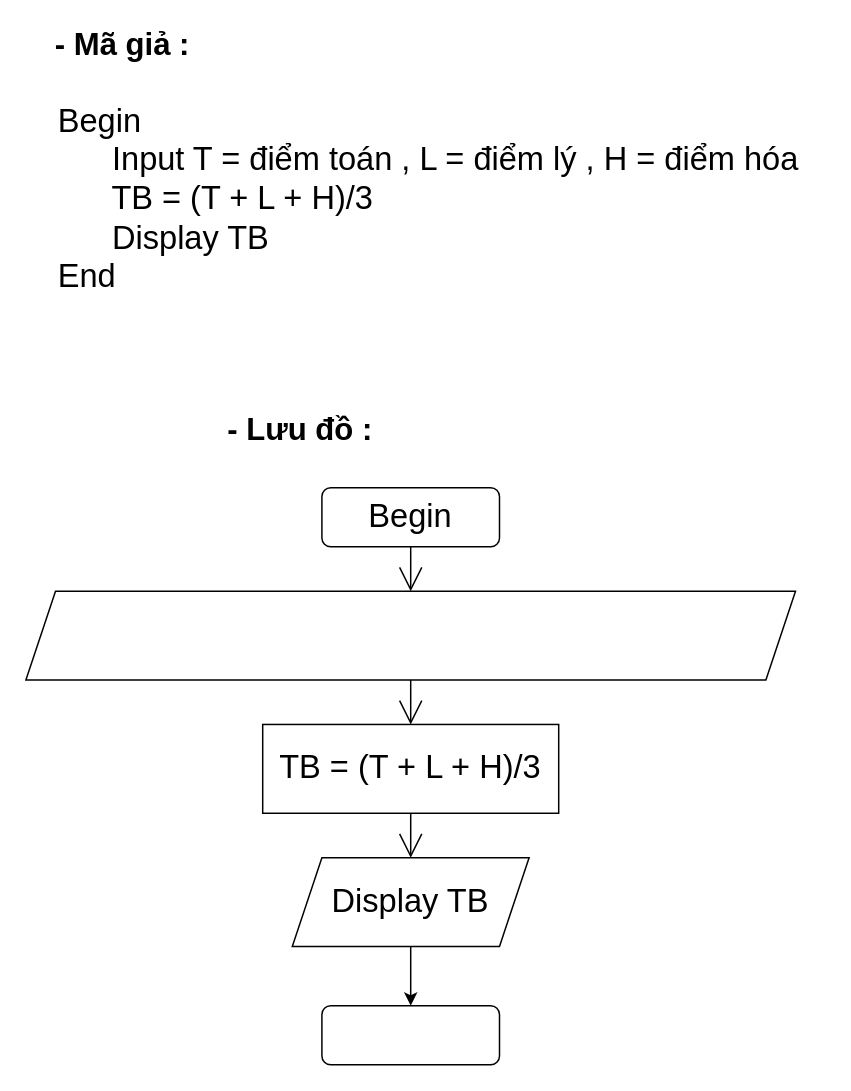
Image size: 851x1091. Some labels were removed from this diagram. The centre of each missing label's shape, as x and y in pixels:
"End" belongs at (x=410, y=1034).
"Input T = điểm toán , L = điểm lý , H = điểm hóa" belongs at (x=410, y=635).
